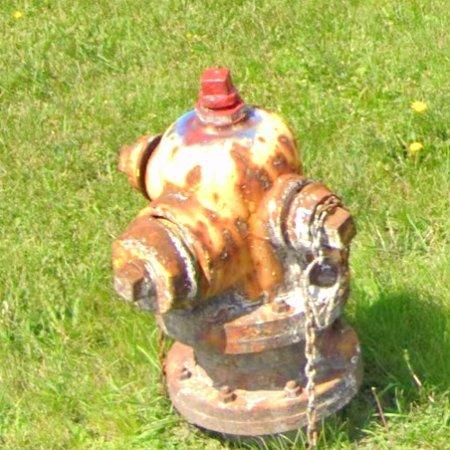a fire hydrant: (113, 68, 363, 437)
